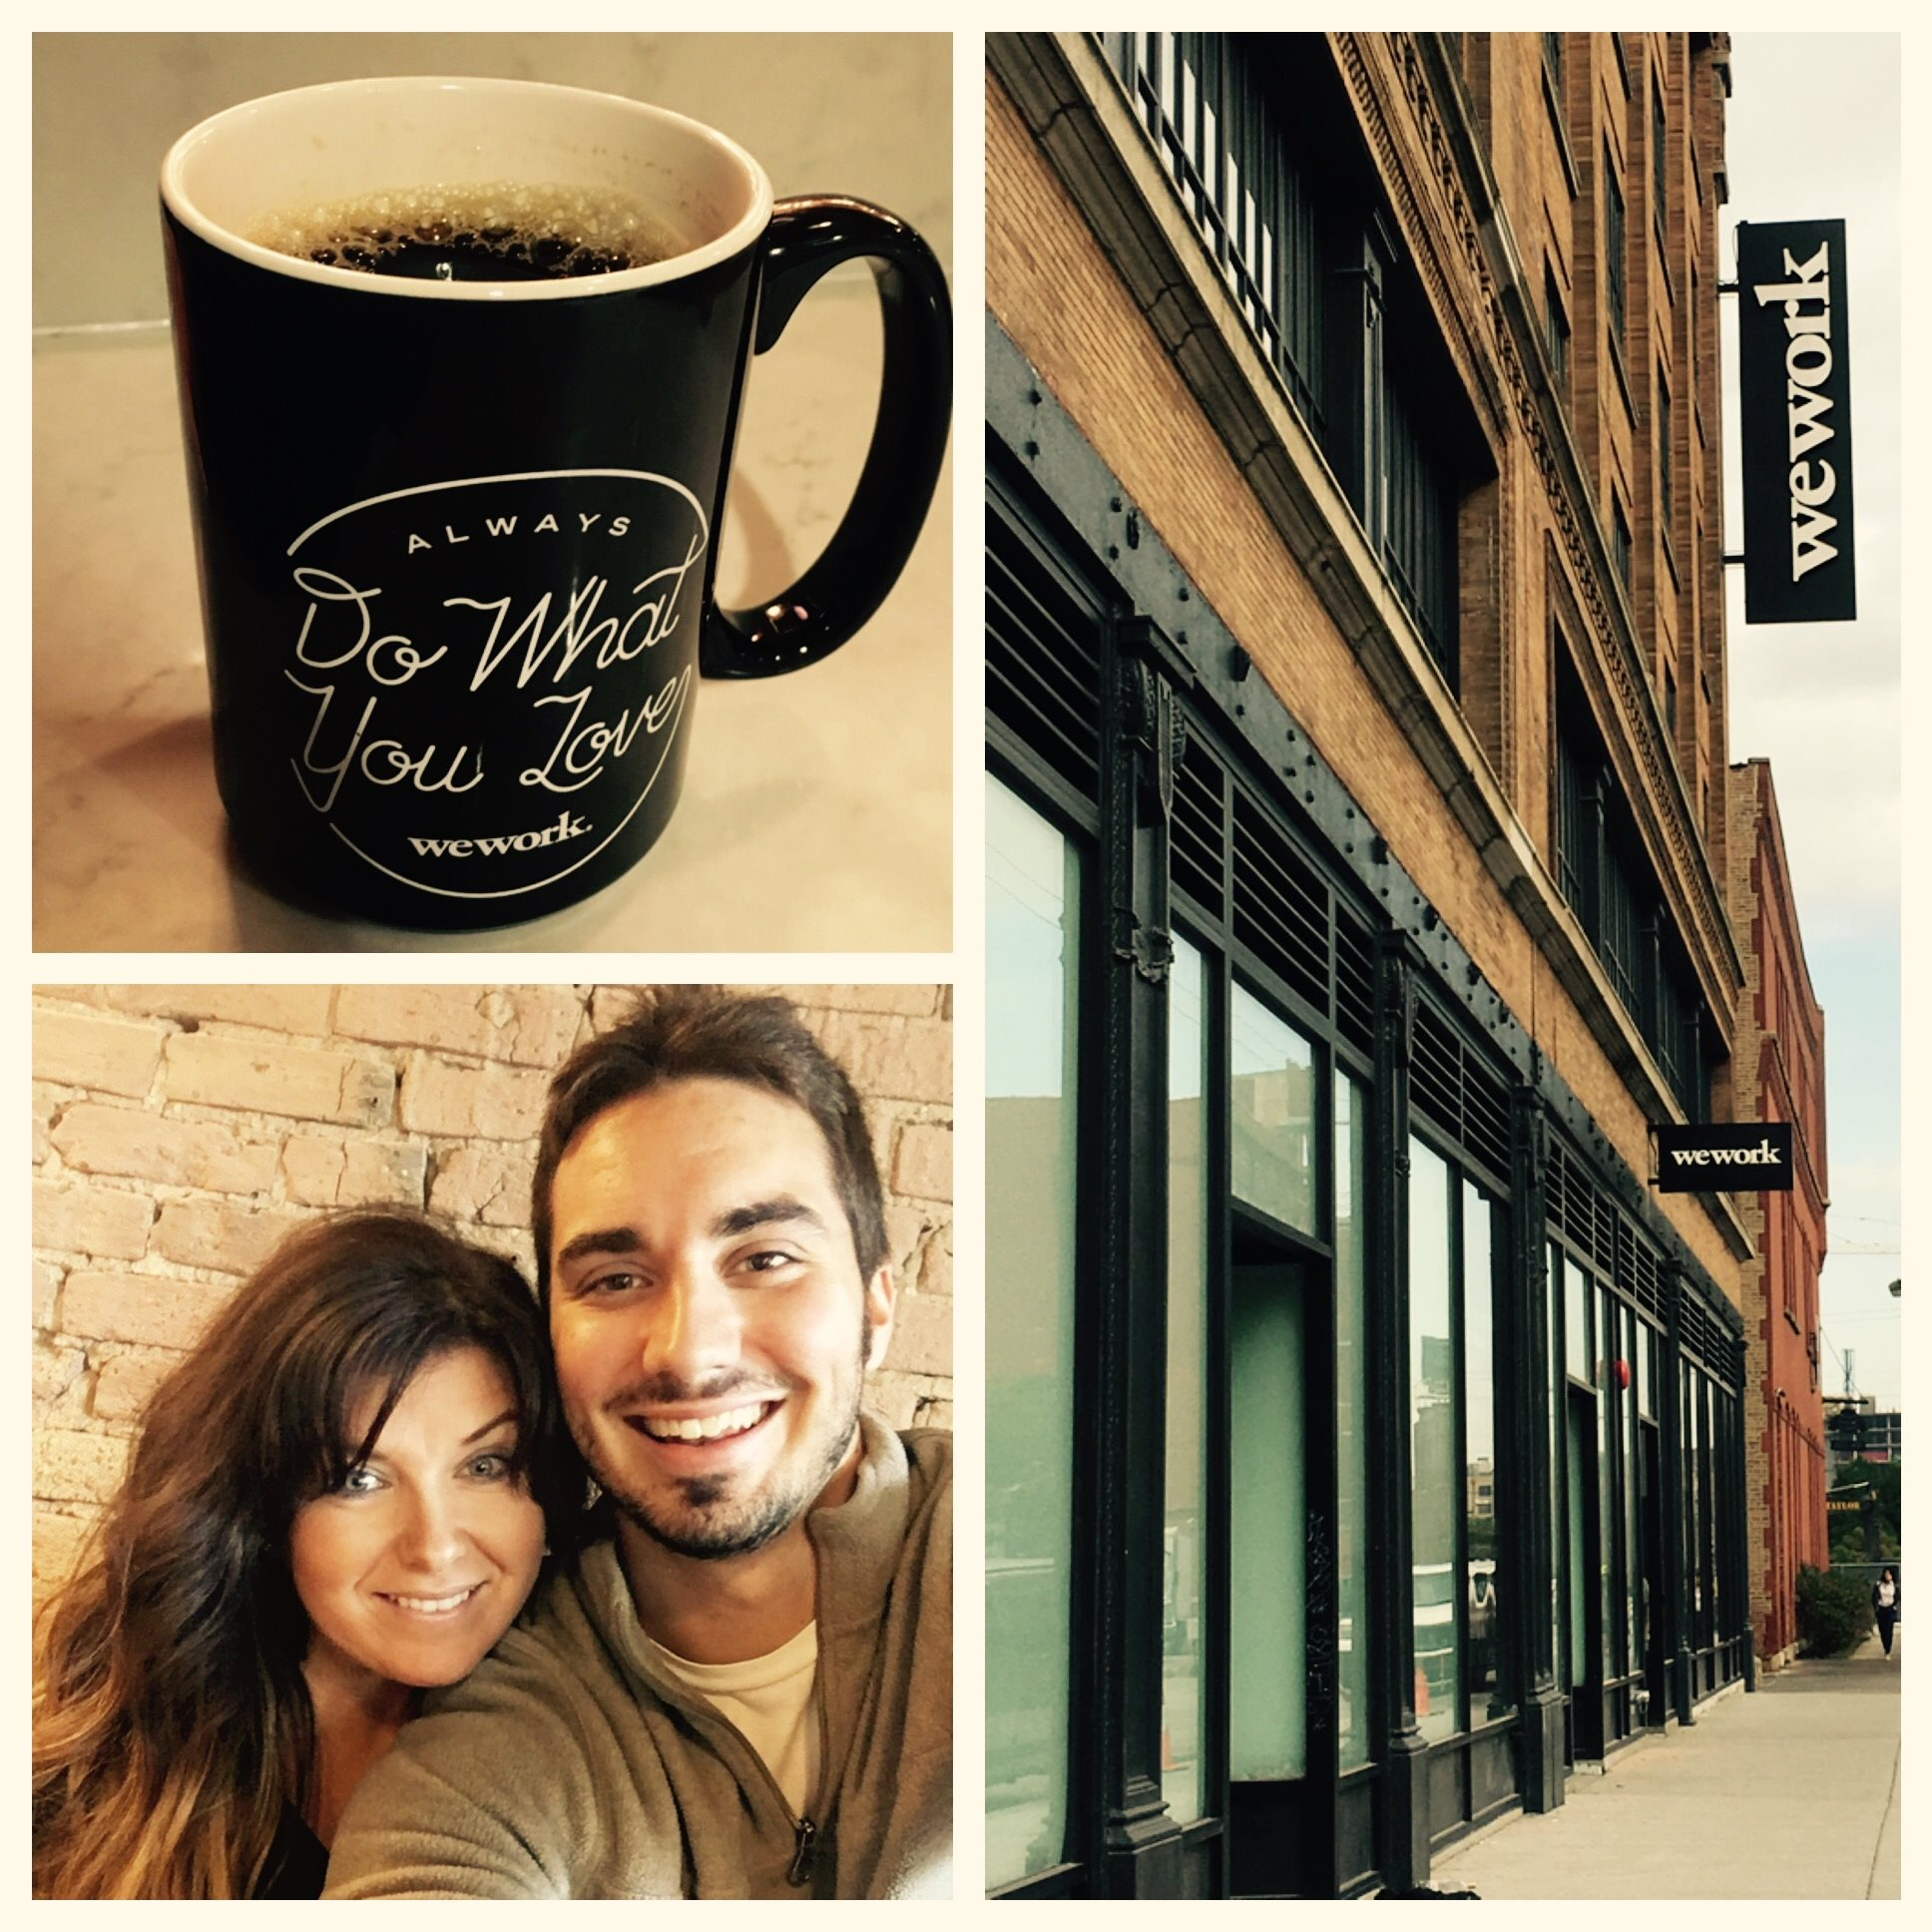wework: (1752, 237, 1844, 586), (403, 807, 587, 858)
